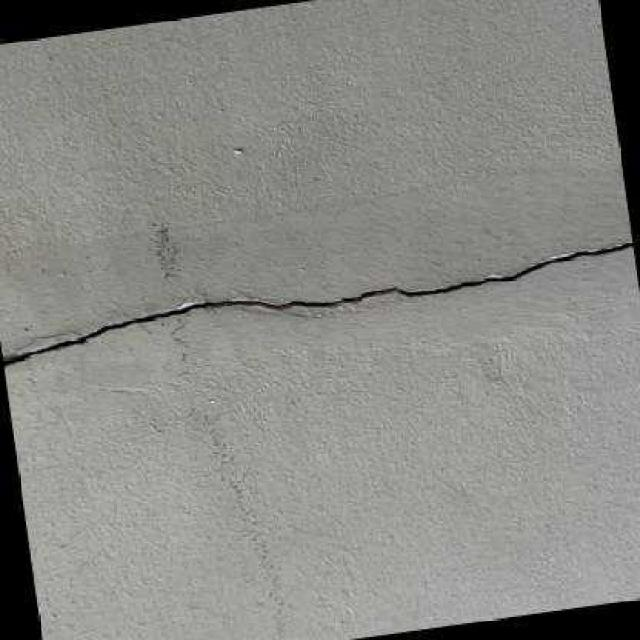D00: (1, 240, 633, 367)
